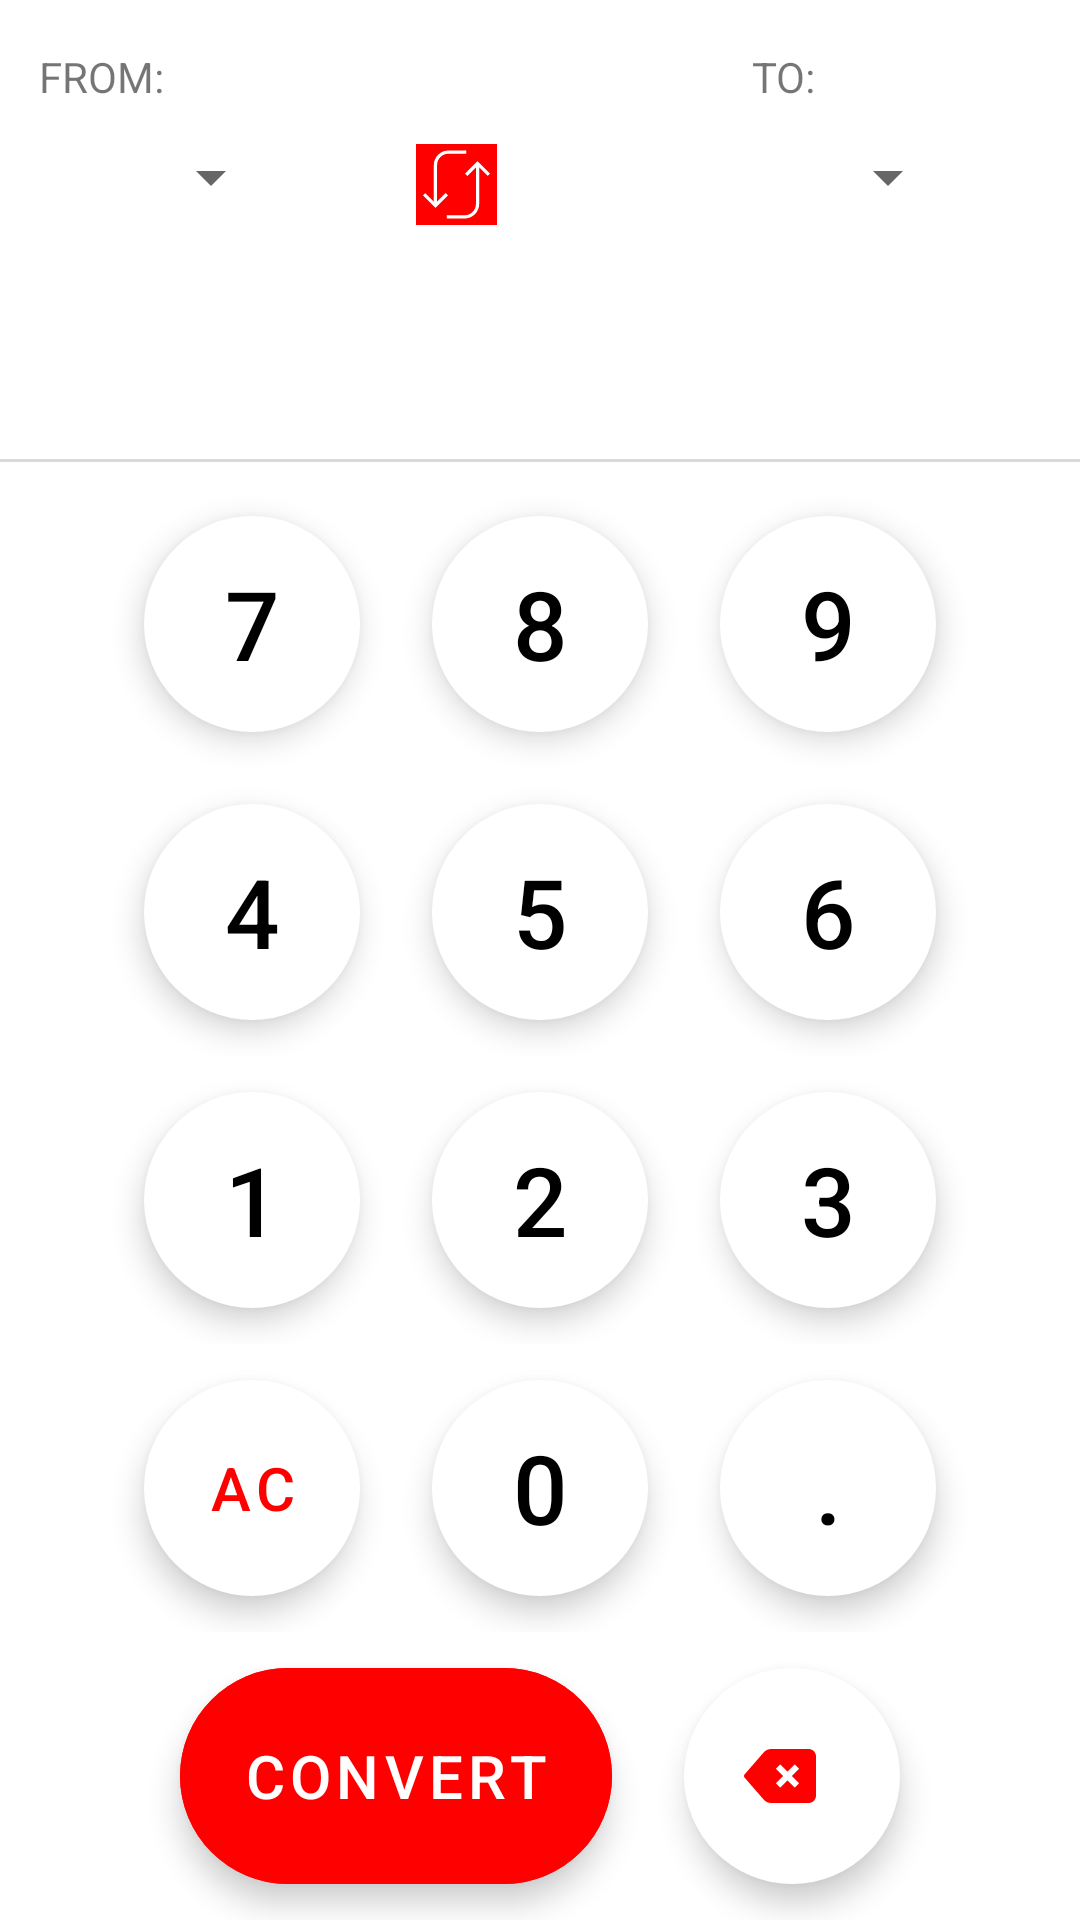

Icon click points for this 1080 × 1920 phone screenshot, format (x=x, y=y):
backspace delete: (x=780, y=1776)
refresh: (x=456, y=184)
